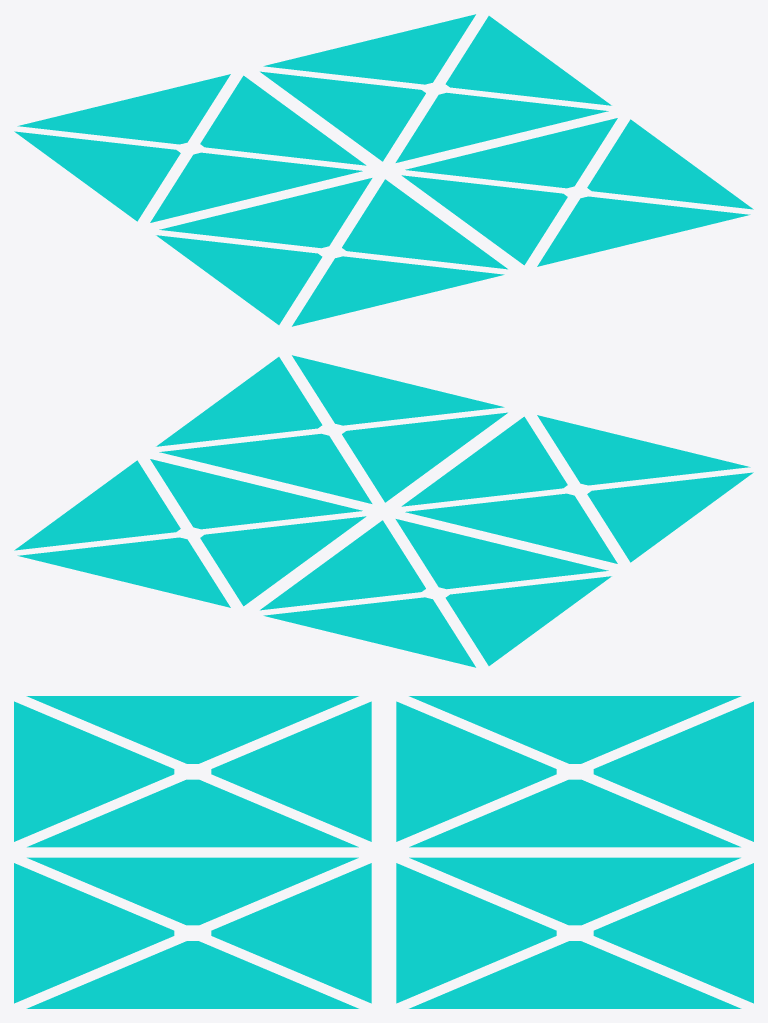
File: MachineRoomGlass.fbx
3 renders of one model, top to bottom at view 1: azimuth 30°, elevation 25°; view 2: azimuth 150°, elevation 25°; view 3: azimuth 270°, elevation 25°, orthographic. The views are drawn at different scales.
Visible parts, largest first — view 1: SolMachineRoom.001; view 2: SolMachineRoom.001; view 3: SolMachineRoom.001.
Part boxes in pixels (x1,y1,x2,y2): SolMachineRoom.001: [14, 14, 753, 326]; SolMachineRoom.001: [14, 355, 753, 667]; SolMachineRoom.001: [14, 696, 753, 1008].
Bounding box in the file's own units: 1125 × 1125 × 0.
